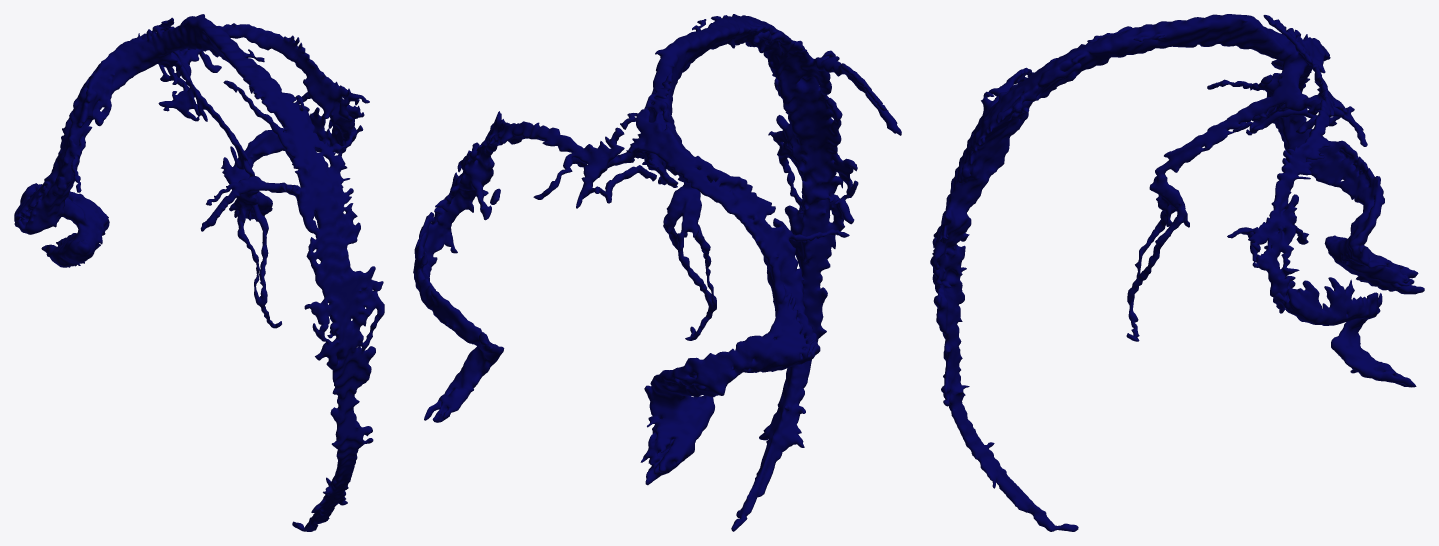
Rendered from Venous_sinus.obj.
3 views of the same model, side by side, from view 1: azimuth 30°, elevation 25°; view 2: azimuth 150°, elevation 25°; view 3: azimuth 270°, elevation 25° (orthographic). The views are drawn at different scales.
Parts seen in each view (by area): view 1: grp1; view 2: grp1; view 3: grp1.
Boxes of the visible parts, x1,y1,x2,y2 form: grp1: (14,14,384,531); grp1: (413,14,901,531); grp1: (930,14,1424,531).
Bounding box in the file's own units: 118 × 155 × 137.
